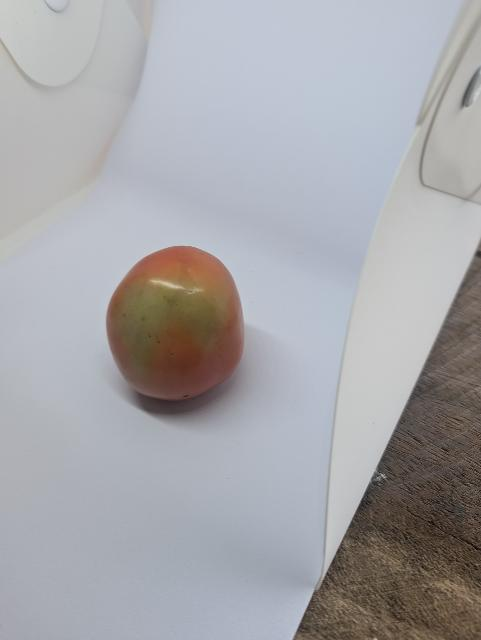turning: (102, 241, 256, 406)
